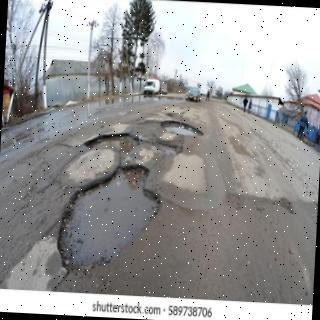pothole: (57, 164, 160, 271), (84, 133, 140, 153), (160, 121, 204, 137)
